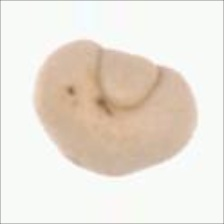L5: (94, 44, 166, 113), (55, 144, 112, 177)
L6: (28, 35, 201, 183)
